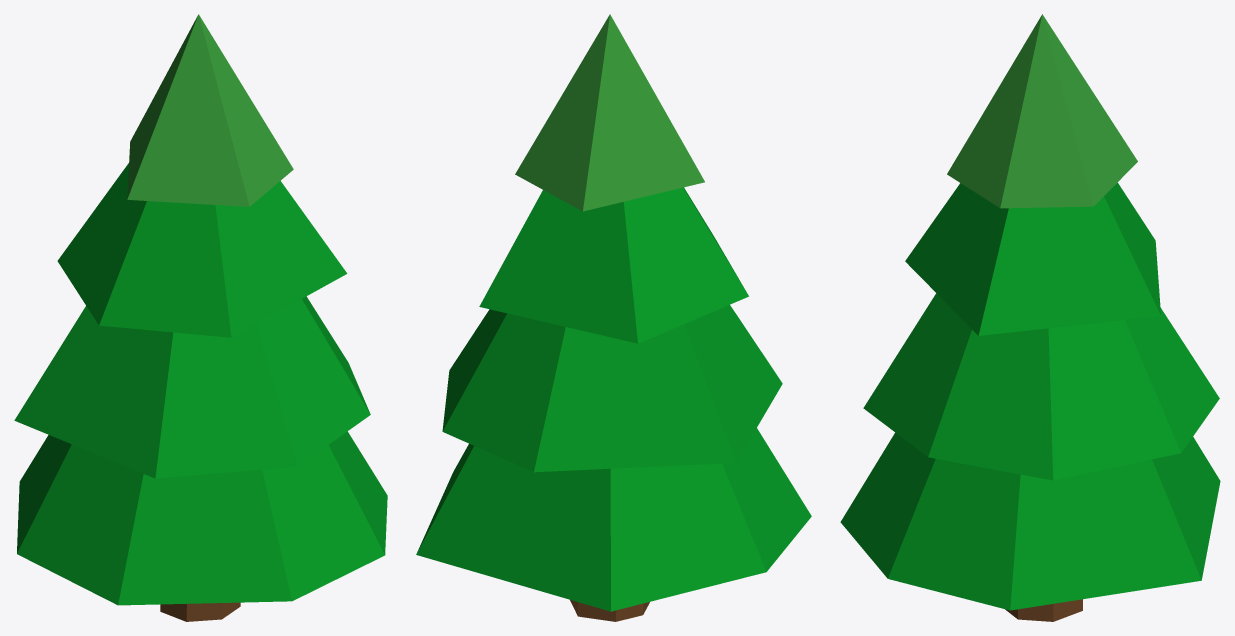
The model's file is kesa_kuusi3.fbx.
3 views of the same model, side by side, from view 1: azimuth 30°, elevation 25°; view 2: azimuth 150°, elevation 25°; view 3: azimuth 270°, elevation 25° (orthographic).
Visible parts, largest first — view 1: Cone, Cylinder; view 2: Cone, Cylinder; view 3: Cone, Cylinder.
Boxes of the visible parts, x1,y1,x2,y2 form: Cone: (14, 14, 387, 605); Cylinder: (160, 602, 240, 621); Cone: (416, 14, 811, 611); Cylinder: (570, 600, 649, 621); Cone: (840, 14, 1220, 610); Cylinder: (1005, 599, 1082, 621).
Bounding box in the file's own units: 287 × 474 × 276.
